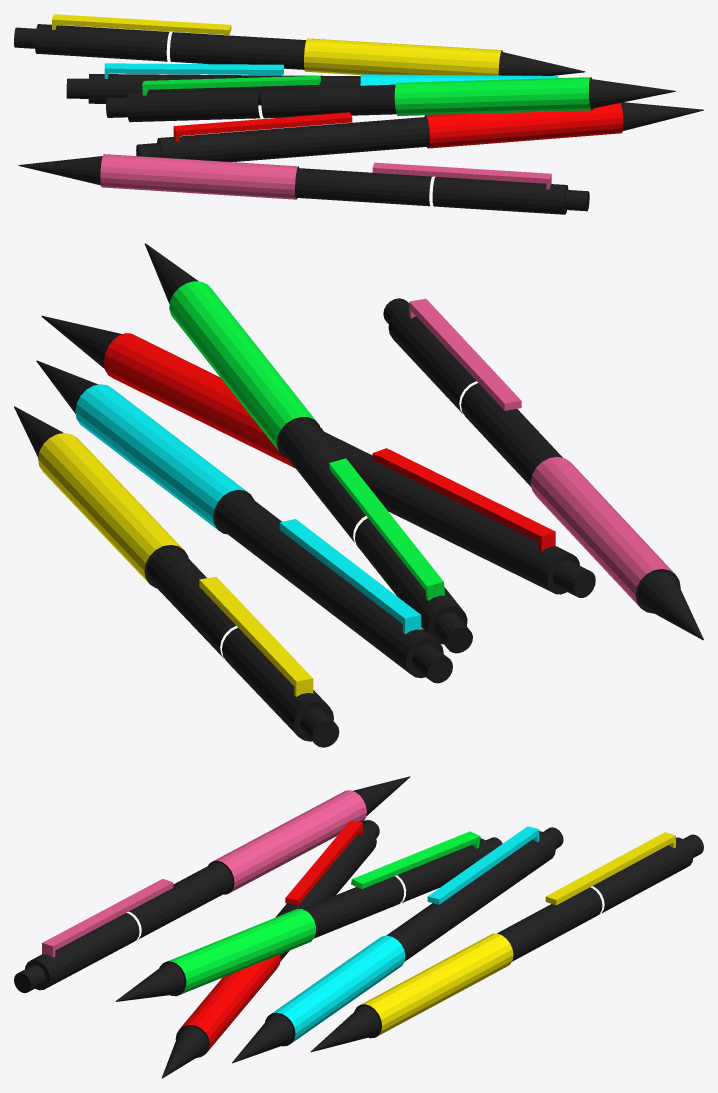
Rendered from Pens.glb.
3 views of the same model, one above another, from view 1: azimuth 30°, elevation 25°; view 2: azimuth 150°, elevation 25°; view 3: azimuth 270°, elevation 25° (orthographic). The views are drawn at different scales.
Parts seen in each view (by area): view 1: Cylinder008, Cylinder010, Cylinder009, Cylinder007, Cylinder006, Box007, Box008, Box006, Box009, Box010; view 2: Cylinder006, Cylinder007, Cylinder010, Cylinder008, Cylinder009, Box007, Box010, Box006, Box009, Box008; view 3: Cylinder008, Cylinder009, Cylinder010, Cylinder006, Cylinder007, Box008, Box009, Box010, Box006, Box007.
Part boxes in pixels (<box>): Cylinder008: <box>18,154,589,214</box>; Cylinder010: <box>106,77,675,122</box>; Cylinder009: <box>14,24,585,75</box>; Cylinder007: <box>136,102,703,161</box>; Cylinder006: <box>66,74,557,105</box>; Box007: <box>173,112,352,141</box>; Box008: <box>372,162,551,189</box>; Box006: <box>104,63,283,78</box>; Box009: <box>52,14,231,34</box>; Box010: <box>142,75,320,95</box>; Cylinder006: <box>36,360,452,683</box>; Cylinder007: <box>41,315,595,597</box>; Cylinder010: <box>144,243,472,653</box>; Cylinder008: <box>383,298,703,640</box>; Cylinder009: <box>14,406,339,747</box>; Box007: <box>372,448,555,551</box>; Box010: <box>329,458,444,600</box>; Box006: <box>279,519,421,633</box>; Box009: <box>199,576,313,696</box>; Box008: <box>409,298,521,410</box>; Cylinder008: <box>14,776,410,993</box>; Cylinder009: <box>310,834,703,1052</box>; Cylinder010: <box>115,837,502,1001</box>; Cylinder006: <box>232,827,563,1063</box>; Cylinder007: <box>162,820,379,1078</box>; Box008: <box>42,879,173,957</box>; Box009: <box>545,832,675,905</box>; Box010: <box>351,831,480,889</box>; Box006: <box>427,826,539,904</box>; Box007: <box>285,820,362,905</box>.
Bounding box in the file's own units: 306732 × 35597 × 296589.
